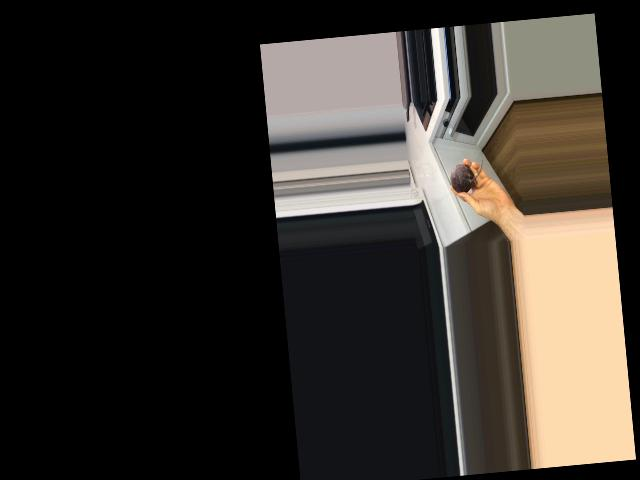beet: (448, 158, 486, 193)
